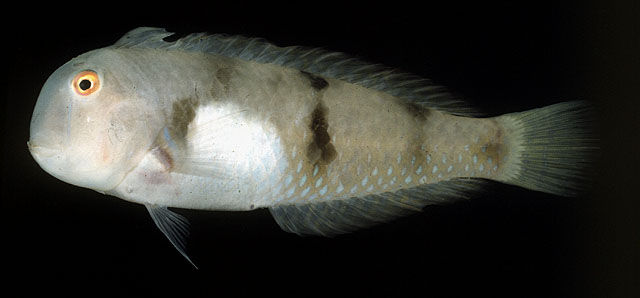fish: (28, 26, 592, 270)
